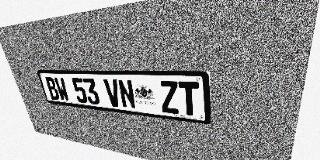3: (82, 78, 100, 105)
5: (71, 78, 89, 104)
B: (44, 77, 61, 100)
N: (117, 79, 137, 109)
T: (178, 81, 200, 116)
V: (103, 79, 122, 108)
W: (53, 77, 70, 102)
Z: (159, 81, 180, 114)
